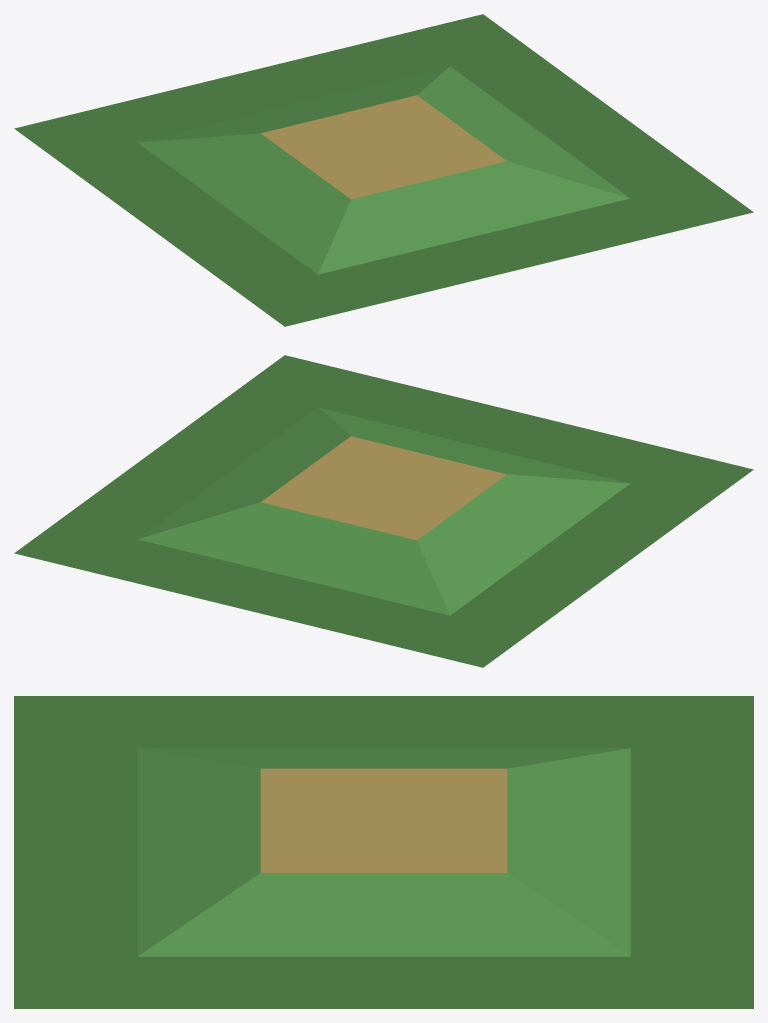
The model's file is LAND.fbx.
The picture shows the model from 3 angles, top to bottom: view 1: azimuth 30°, elevation 25°; view 2: azimuth 150°, elevation 25°; view 3: azimuth 270°, elevation 25°; orthographic projection. The views are drawn at different scales.
Visible parts, largest first — view 1: LAND; view 2: LAND; view 3: LAND.
Part boxes in pixels (x1,y1,x2,y2): LAND: (14,14,753,326); LAND: (14,355,753,667); LAND: (14,696,753,1008).
Size of the model in its own units: 2289 by 108 by 2289.
